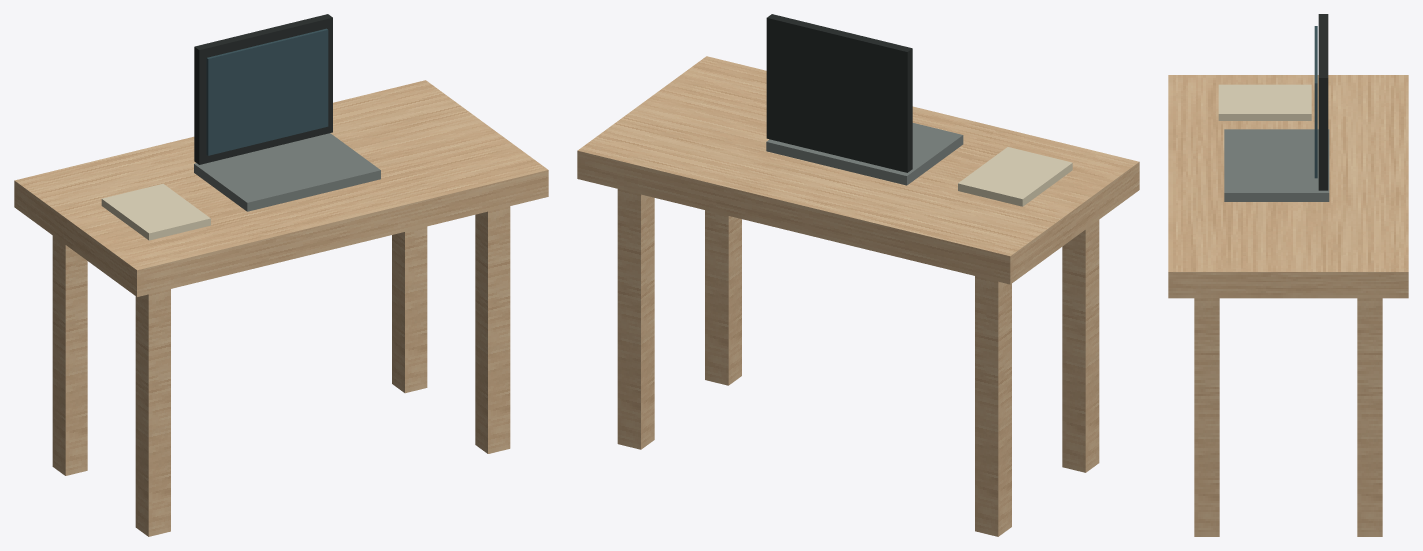
Rendered from city_desk.glb.
3 views of the same model, side by side, from view 1: azimuth 30°, elevation 25°; view 2: azimuth 150°, elevation 25°; view 3: azimuth 270°, elevation 25° (orthographic). The views are drawn at different scales.
Parts seen in each view (by area): view 1: root; view 2: root; view 3: root.
Boxes of the visible parts, x1=… form: root: x1=14, y1=14, x2=548, y2=536; root: x1=577, y1=14, x2=1139, y2=536; root: x1=1168, y1=14, x2=1408, y2=536.
Bounding box in the file's own units: 1.2 × 1.15 × 0.62.
1 material, 1 textured.
